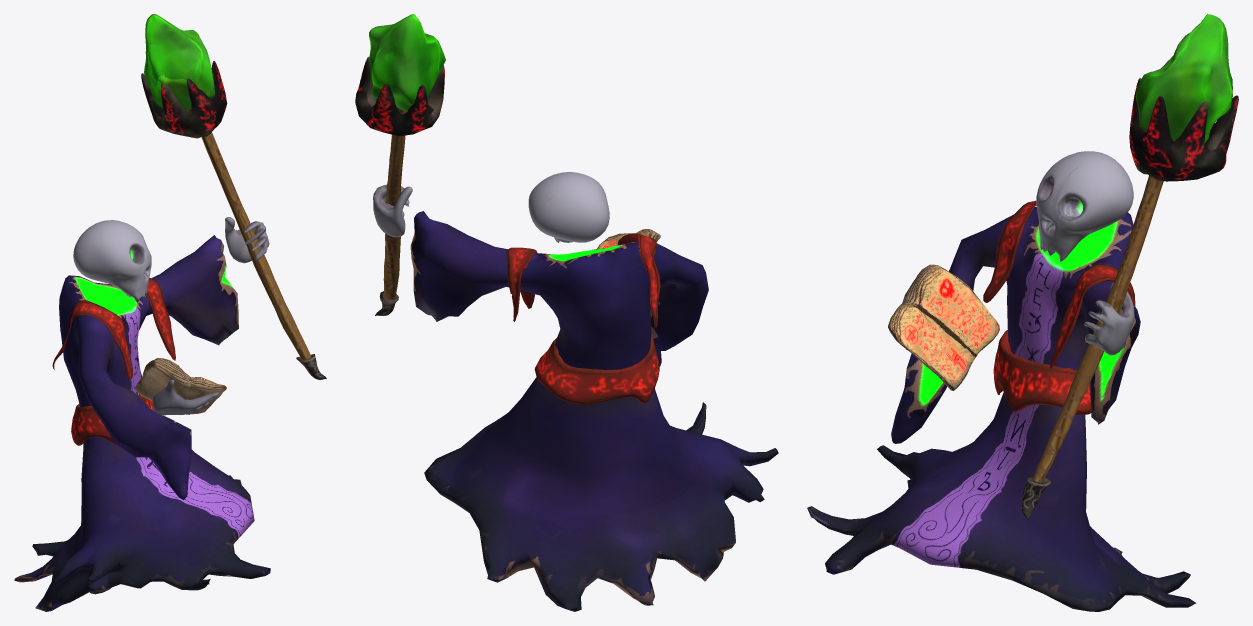
File: undead_king.glb
3 renders of one model, left to right at view 1: azimuth 30°, elevation 25°; view 2: azimuth 150°, elevation 25°; view 3: azimuth 270°, elevation 25°, orthographic. The views are drawn at different scales.
Parts seen in each view (by area): view 1: Tools_CreateTool_SceneObject_Sphere, Tools_CreateTool_SceneObject_Sphere_003, Sculpt, Tools_CreateTool_SceneObject_Torus, Tools_CreateTool_SceneObject_Cylinder, Tools_CreateTool_SceneObject_Square, Tools_CreateTool_SceneObject_Square_001, Tools_CreateTool_SceneObject_Sphere_001, Tools_CreateTool_SceneObject_Torus_001, Tools_CreateTool_SceneObject_Sphere_002, Tools_CreateTool_SceneObject_Square_002; view 2: Tools_CreateTool_SceneObject_Sphere, Tools_CreateTool_SceneObject_Sphere_003, Sculpt, Tools_CreateTool_SceneObject_Torus_001, Tools_CreateTool_SceneObject_Torus, Tools_CreateTool_SceneObject_Cylinder, Tools_CreateTool_SceneObject_Sphere_001, Tools_CreateTool_SceneObject_Square_001, Tools_CreateTool_SceneObject_Square_002; view 3: Tools_CreateTool_SceneObject_Sphere, Tools_CreateTool_SceneObject_Square, Sculpt, Tools_CreateTool_SceneObject_Sphere_003, Tools_CreateTool_SceneObject_Torus, Tools_CreateTool_SceneObject_Cylinder, Tools_CreateTool_SceneObject_Torus_001, Tools_CreateTool_SceneObject_Sphere_001, Tools_CreateTool_SceneObject_Square_001, Tools_CreateTool_SceneObject_Square_002, Tools_CreateTool_SceneObject_Cone.
Boxes of the visible parts, left/top/right/bottom form: Tools_CreateTool_SceneObject_Sphere: left=14, top=235, right=270, bottom=611; Tools_CreateTool_SceneObject_Sphere_003: left=144, top=14, right=214, bottom=109; Sculpt: left=73, top=220, right=151, bottom=302; Tools_CreateTool_SceneObject_Torus: left=141, top=61, right=227, bottom=138; Tools_CreateTool_SceneObject_Cylinder: left=201, top=132, right=310, bottom=359; Tools_CreateTool_SceneObject_Square: left=135, top=358, right=226, bottom=414; Tools_CreateTool_SceneObject_Square_001: left=52, top=300, right=133, bottom=379; Tools_CreateTool_SceneObject_Sphere_001: left=225, top=217, right=269, bottom=263; Tools_CreateTool_SceneObject_Torus_001: left=71, top=394, right=153, bottom=446; Tools_CreateTool_SceneObject_Sphere_002: left=152, top=379, right=218, bottom=415; Tools_CreateTool_SceneObject_Square_002: left=146, top=278, right=175, bottom=360; Tools_CreateTool_SceneObject_Sphere: left=410, top=211, right=778, bottom=611; Tools_CreateTool_SceneObject_Sphere_003: left=369, top=14, right=445, bottom=111; Sculpt: left=528, top=172, right=609, bottom=242; Tools_CreateTool_SceneObject_Torus_001: left=534, top=337, right=659, bottom=404; Tools_CreateTool_SceneObject_Torus: left=355, top=56, right=444, bottom=136; Tools_CreateTool_SceneObject_Cylinder: left=383, top=107, right=406, bottom=299; Tools_CreateTool_SceneObject_Sphere_001: left=373, top=184, right=412, bottom=237; Tools_CreateTool_SceneObject_Square_001: left=618, top=233, right=660, bottom=328; Tools_CreateTool_SceneObject_Square_002: left=506, top=247, right=537, bottom=321; Tools_CreateTool_SceneObject_Sphere: left=807, top=207, right=1195, bottom=611; Tools_CreateTool_SceneObject_Square: left=888, top=264, right=999, bottom=390; Sculpt: left=1036, top=151, right=1133, bottom=261; Tools_CreateTool_SceneObject_Sphere_003: left=1135, top=14, right=1232, bottom=143; Tools_CreateTool_SceneObject_Torus: left=1129, top=78, right=1238, bottom=181; Tools_CreateTool_SceneObject_Cylinder: left=1032, top=175, right=1163, bottom=482; Tools_CreateTool_SceneObject_Torus_001: left=993, top=330, right=1090, bottom=414; Tools_CreateTool_SceneObject_Sphere_001: left=1084, top=282, right=1134, bottom=355; Tools_CreateTool_SceneObject_Square_001: left=983, top=200, right=1036, bottom=302; Tools_CreateTool_SceneObject_Square_002: left=1050, top=264, right=1135, bottom=368; Tools_CreateTool_SceneObject_Cone: left=1021, top=476, right=1051, bottom=520.
Size of the model in its own units: 11.99 by 18.61 by 11.19.
12 materials, 12 textured.
